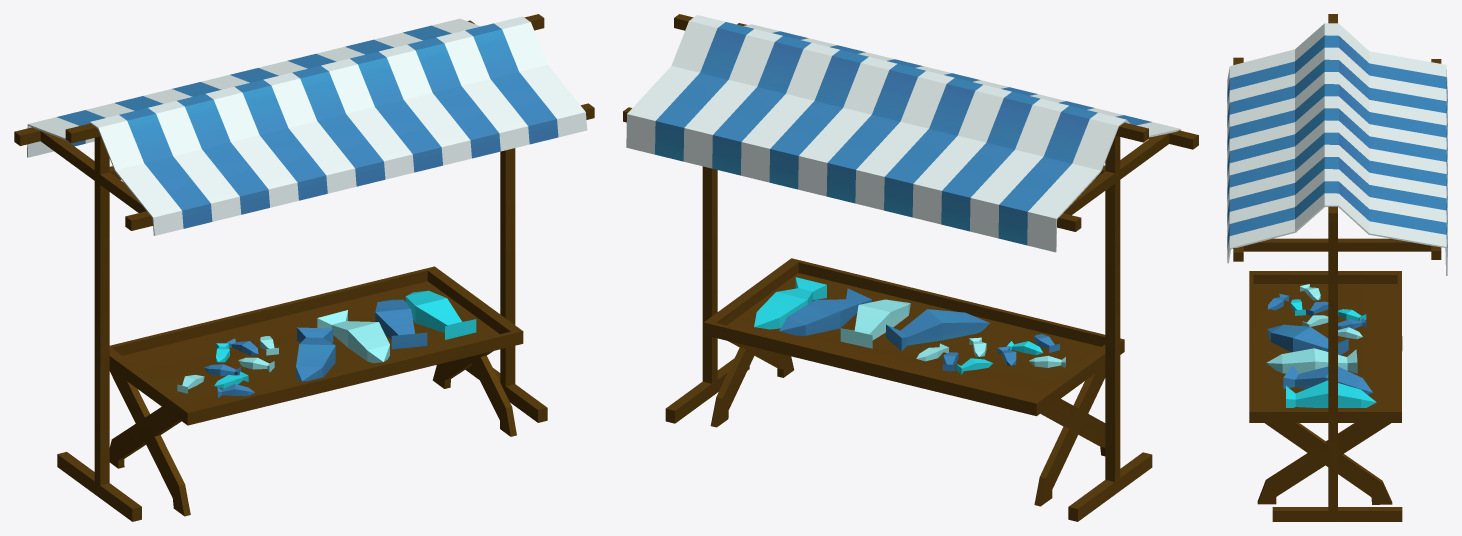
Rendered from Stall_1.fbx.
3 views of the same model, side by side, from view 1: azimuth 30°, elevation 25°; view 2: azimuth 150°, elevation 25°; view 3: azimuth 270°, elevation 25° (orthographic). The views are drawn at different scales.
Parts seen in each view (by area): view 1: Stall_1; view 2: Stall_1; view 3: Stall_1.
Boxes of the visible parts, left/top/right/bottom form: Stall_1: left=14, top=14, right=594, bottom=521; Stall_1: left=623, top=14, right=1198, bottom=521; Stall_1: left=1227, top=14, right=1447, bottom=521.
Bounding box in the file's own units: 0.9332 × 0.7036 × 0.4366.
